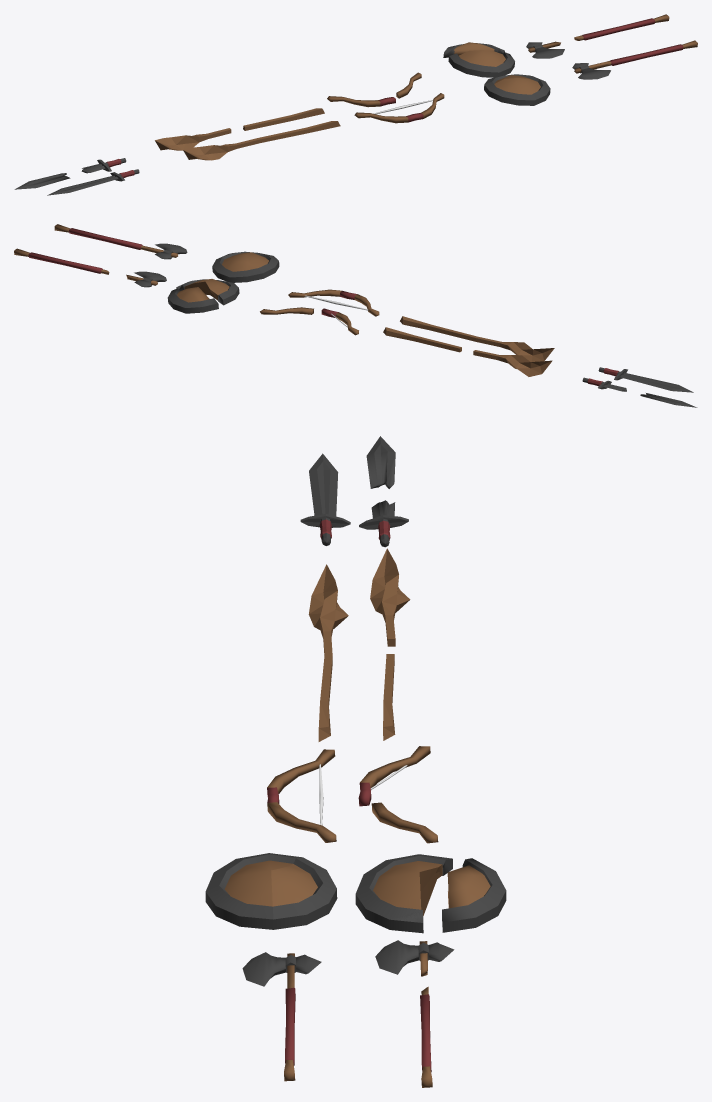
The model's file is weapons_borken_and_whole.fbx.
3 views of the same model, one above another, from view 1: azimuth 30°, elevation 25°; view 2: azimuth 150°, elevation 25°; view 3: azimuth 270°, elevation 25° (orthographic). The views are drawn at different scales.
Visible parts, largest first — view 1: shield_test_shield_0.002, shield_test_shield_0.007, twoHandedStaff_test_twohandedStaff_0, twoHandedStaff_test_twohandedStaff_0.002, twoHandedStaff_test_twohandedStaff_0.001, bow_test_bow_0, shield_test_shield_0.006, twoHandedAxe_test_09 - Default_0.004, twoHandedAxe_test_09 - Default_0.010, oneHandedSword_test_sword_0.007, oneHandedSword_test_sword_0.001, twoHandedAxe_test_09 - Default_0.003 (+3 smaller); view 2: shield_test_shield_0.002, twoHandedStaff_test_twohandedStaff_0, shield_test_shield_0.006, shield_test_shield_0.007, twoHandedStaff_test_twohandedStaff_0.002, twoHandedStaff_test_twohandedStaff_0.001, bow_test_bow_0, oneHandedSword_test_sword_0.007, twoHandedAxe_test_09 - Default_0.010, twoHandedAxe_test_09 - Default_0.004, twoHandedAxe_test_09 - Default_0.003, twoHandedAxe_test_09 - Default_0.008 (+1 smaller); view 3: shield_test_shield_0.002, shield_test_shield_0.007, shield_test_shield_0.006, twoHandedStaff_test_twohandedStaff_0, twoHandedStaff_test_twohandedStaff_0.002, bow_test_bow_0, twoHandedAxe_test_09 - Default_0.008, twoHandedAxe_test_09 - Default_0.003, oneHandedSword_test_sword_0.007, oneHandedSword_test_sword_0.001, oneHandedSword_test_sword_0.003.
Boxes of the visible parts, x1,y1,x2,y2 form: shield_test_shield_0.002: [484, 74, 550, 105]; shield_test_shield_0.007: [448, 50, 514, 77]; twoHandedStaff_test_twohandedStaff_0: [183, 121, 340, 160]; twoHandedStaff_test_twohandedStaff_0.002: [155, 128, 231, 150]; twoHandedStaff_test_twohandedStaff_0.001: [243, 108, 324, 130]; bow_test_bow_0: [354, 93, 444, 123]; shield_test_shield_0.006: [443, 42, 504, 57]; twoHandedAxe_test_09 - Default_0.004: [610, 44, 683, 65]; twoHandedAxe_test_09 - Default_0.010: [582, 18, 654, 40]; oneHandedSword_test_sword_0.007: [47, 175, 118, 195]; oneHandedSword_test_sword_0.001: [14, 173, 70, 189]; twoHandedAxe_test_09 - Default_0.003: [572, 63, 610, 79]; shield_test_shield_0.002: [212, 251, 279, 282]; twoHandedStaff_test_twohandedStaff_0: [400, 316, 554, 361]; shield_test_shield_0.006: [167, 287, 218, 313]; shield_test_shield_0.007: [176, 279, 239, 305]; twoHandedStaff_test_twohandedStaff_0.002: [473, 350, 552, 376]; twoHandedStaff_test_twohandedStaff_0.001: [383, 327, 461, 352]; bow_test_bow_0: [288, 289, 379, 316]; oneHandedSword_test_sword_0.007: [620, 373, 693, 392]; twoHandedAxe_test_09 - Default_0.010: [28, 252, 102, 273]; twoHandedAxe_test_09 - Default_0.004: [69, 228, 142, 249]; twoHandedAxe_test_09 - Default_0.003: [155, 243, 187, 259]; twoHandedAxe_test_09 - Default_0.008: [134, 271, 166, 287]; shield_test_shield_0.002: [205, 853, 337, 929]; shield_test_shield_0.007: [355, 854, 452, 933]; shield_test_shield_0.006: [442, 858, 506, 932]; twoHandedStaff_test_twohandedStaff_0: [308, 564, 348, 741]; twoHandedStaff_test_twohandedStaff_0.002: [370, 548, 410, 646]; bow_test_bow_0: [267, 749, 336, 842]; twoHandedAxe_test_09 - Default_0.008: [375, 940, 454, 974]; twoHandedAxe_test_09 - Default_0.003: [242, 952, 321, 986]; oneHandedSword_test_sword_0.007: [309, 453, 338, 516]; oneHandedSword_test_sword_0.001: [366, 436, 395, 488]; oneHandedSword_test_sword_0.003: [359, 500, 408, 547].
Bounding box in the file's own units: 932 × 28.35 × 182.
